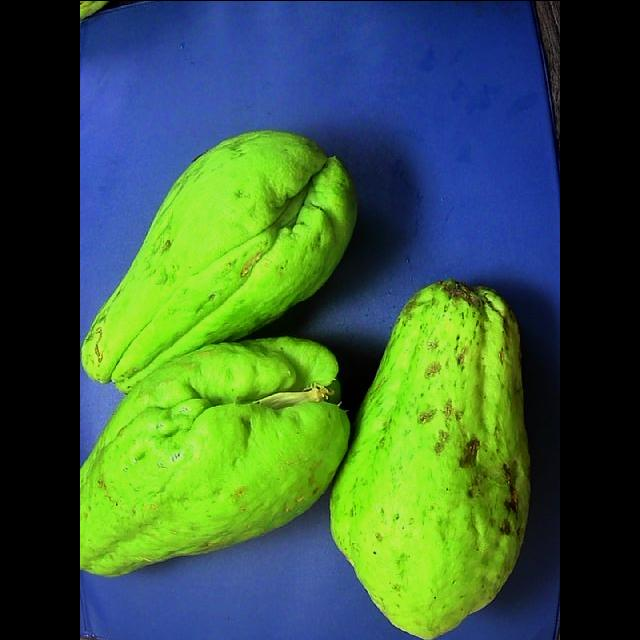chayote: (81, 131, 355, 392), (330, 280, 529, 638), (80, 337, 350, 576)
